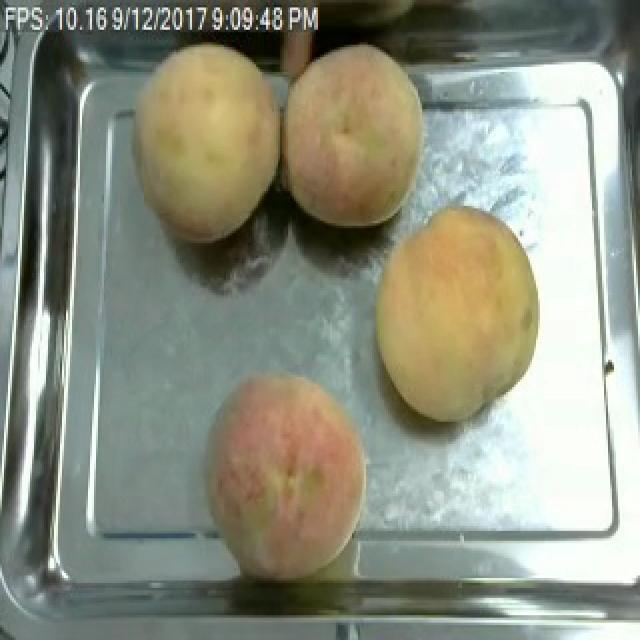Fruit: (362, 196, 550, 432), (198, 362, 380, 586), (116, 29, 282, 250), (278, 35, 436, 238)
